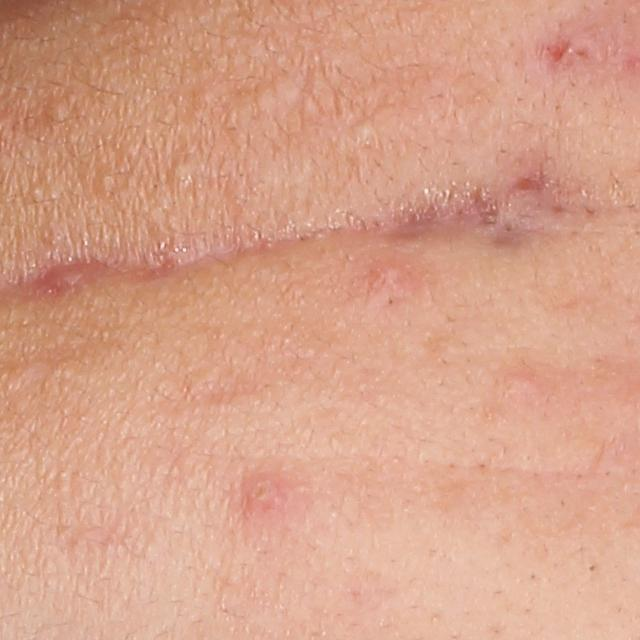comedo: (348, 113, 377, 142), (44, 95, 75, 122), (172, 154, 195, 180), (94, 170, 115, 188), (27, 185, 45, 203)
papule: (239, 458, 296, 513), (505, 367, 540, 394)
